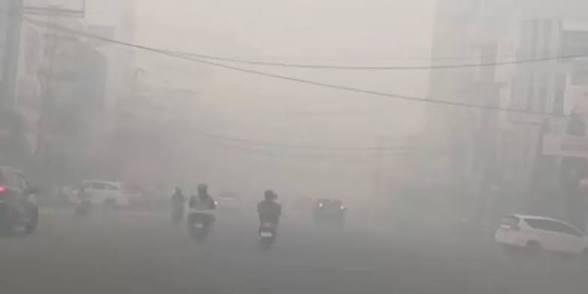Deteksi-Objek-Citra-Berasap: (0, 0, 588, 294)
Gedung: (435, 0, 588, 214), (0, 0, 132, 180)
Kendaraan: (494, 213, 588, 261), (0, 166, 39, 236), (78, 180, 130, 213), (188, 202, 216, 246), (313, 196, 346, 229), (258, 216, 278, 250)
Manusia: (188, 183, 217, 222), (256, 189, 283, 230), (169, 186, 186, 227)
